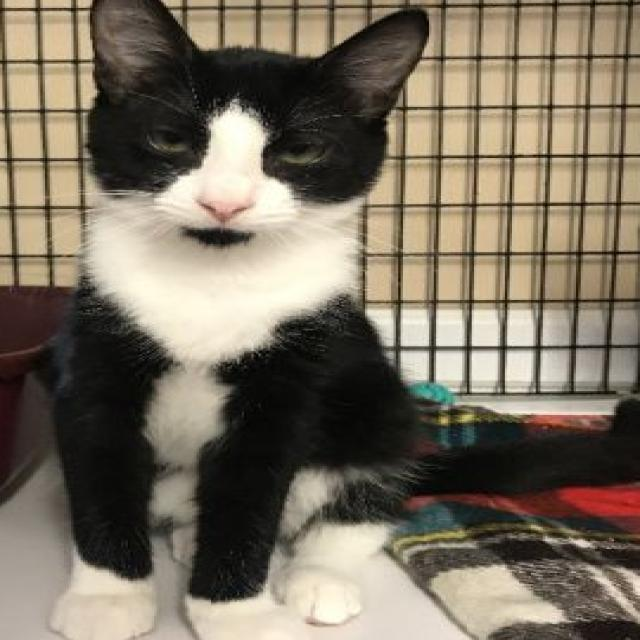Tuxedo: (47, 0, 640, 640)
